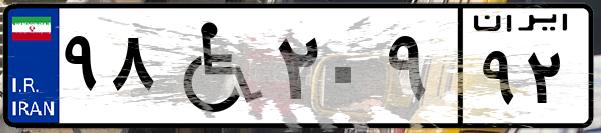0: (330, 28, 385, 110)
2: (270, 28, 330, 110), (525, 38, 570, 115)
8: (110, 28, 158, 98)
9: (385, 28, 445, 110), (57, 26, 110, 100), (475, 38, 525, 113)
ژ (معلولین و جانبازان): (158, 12, 270, 120)
